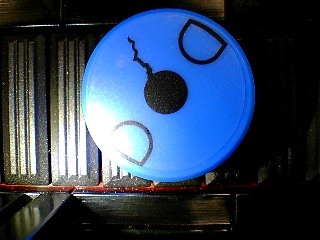CRACK: (81, 8, 255, 182)
